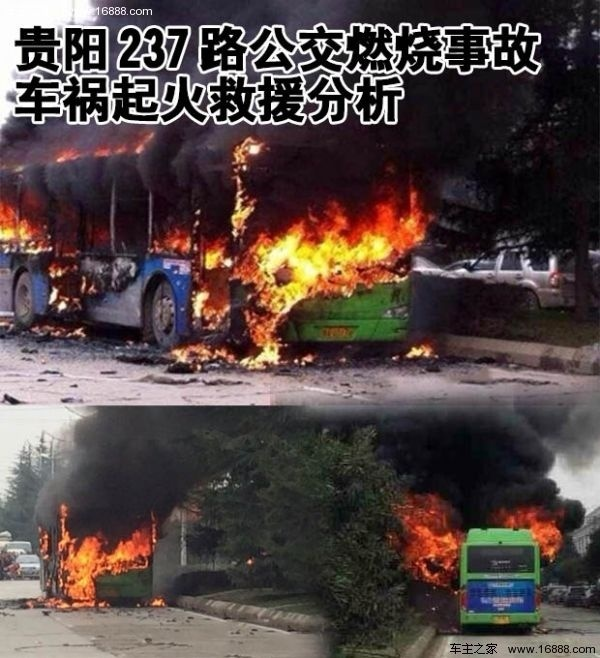fire: (8, 132, 438, 377), (384, 489, 569, 592), (35, 503, 162, 609)
